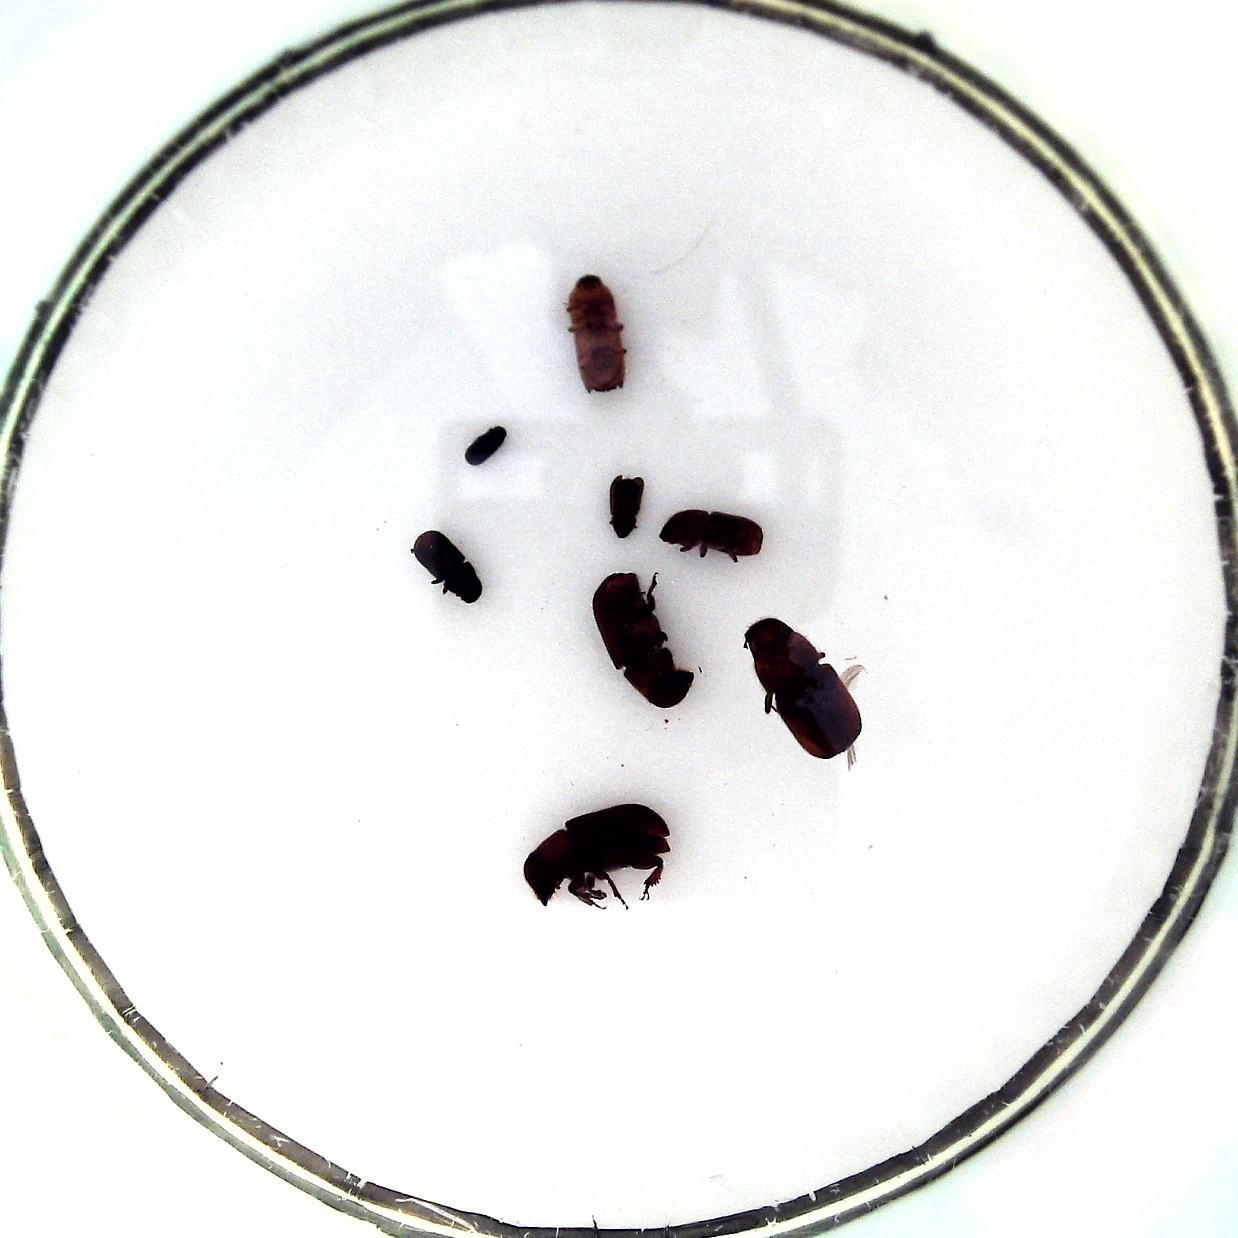Boerner: (569, 274, 629, 395)
Leconte: (744, 617, 864, 760), (523, 803, 672, 907), (593, 573, 694, 709)
acuminatus: (466, 425, 506, 465)
armandi: (412, 529, 484, 604)
coleoptera: (609, 475, 645, 539)
linnaeus: (660, 509, 763, 559)
